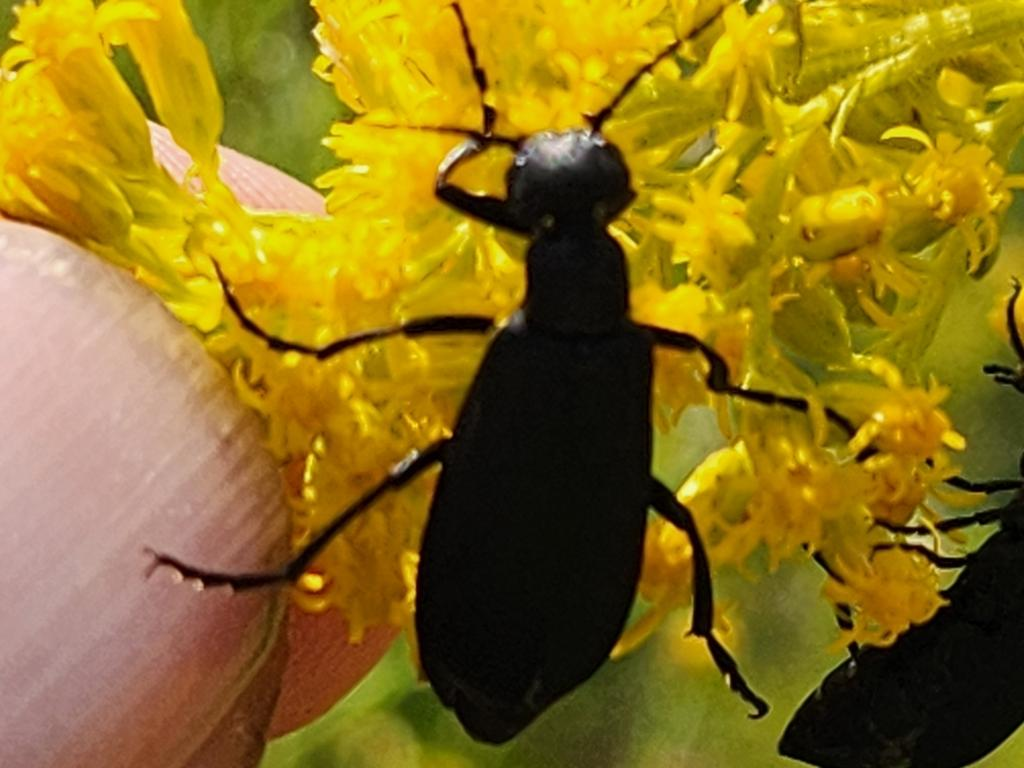blister_beetle: (59, 0, 984, 768)
